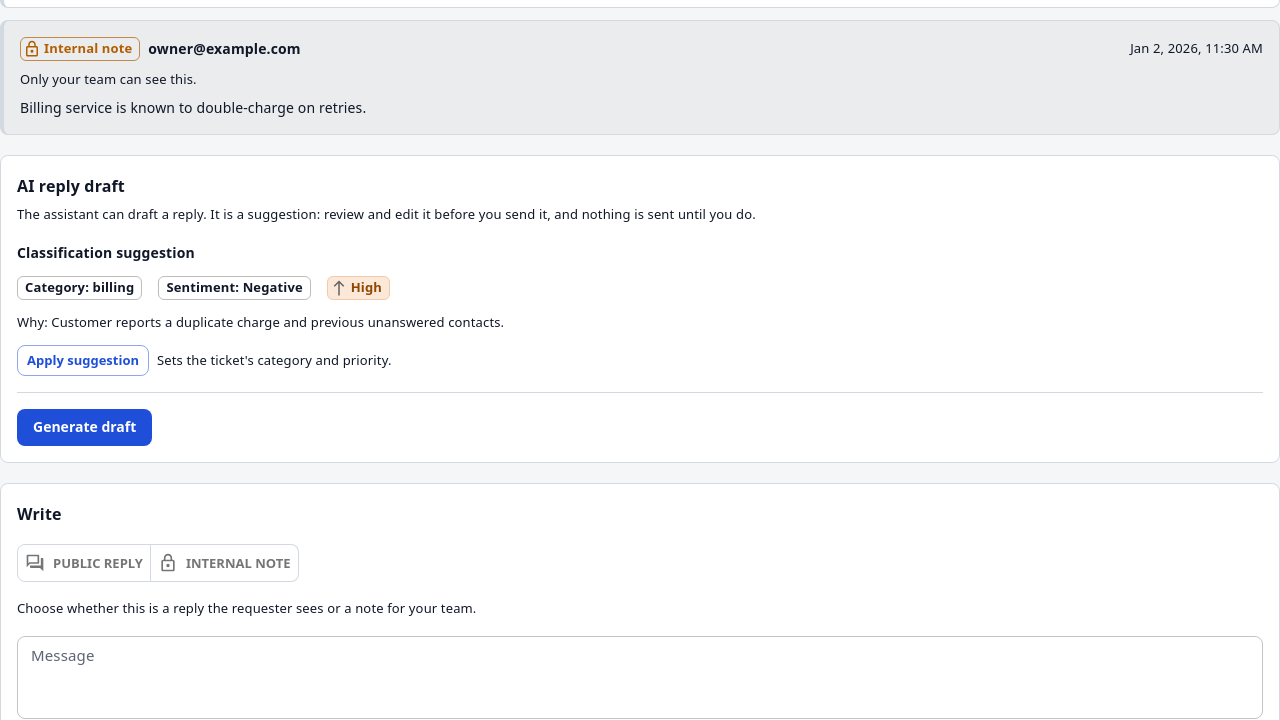
it: TicketDetailPage AI panel › shows the classification suggestion and applies it to the ticket
(page scrolled)
Expected: the text "Customer reports a duplicate charge" is shown, [17,313,504,331]
Expected: the text "Category: billing" is shown, [18,278,141,298]
Click the button "Apply suggestion": x=83, y=361 [17,346,149,376]
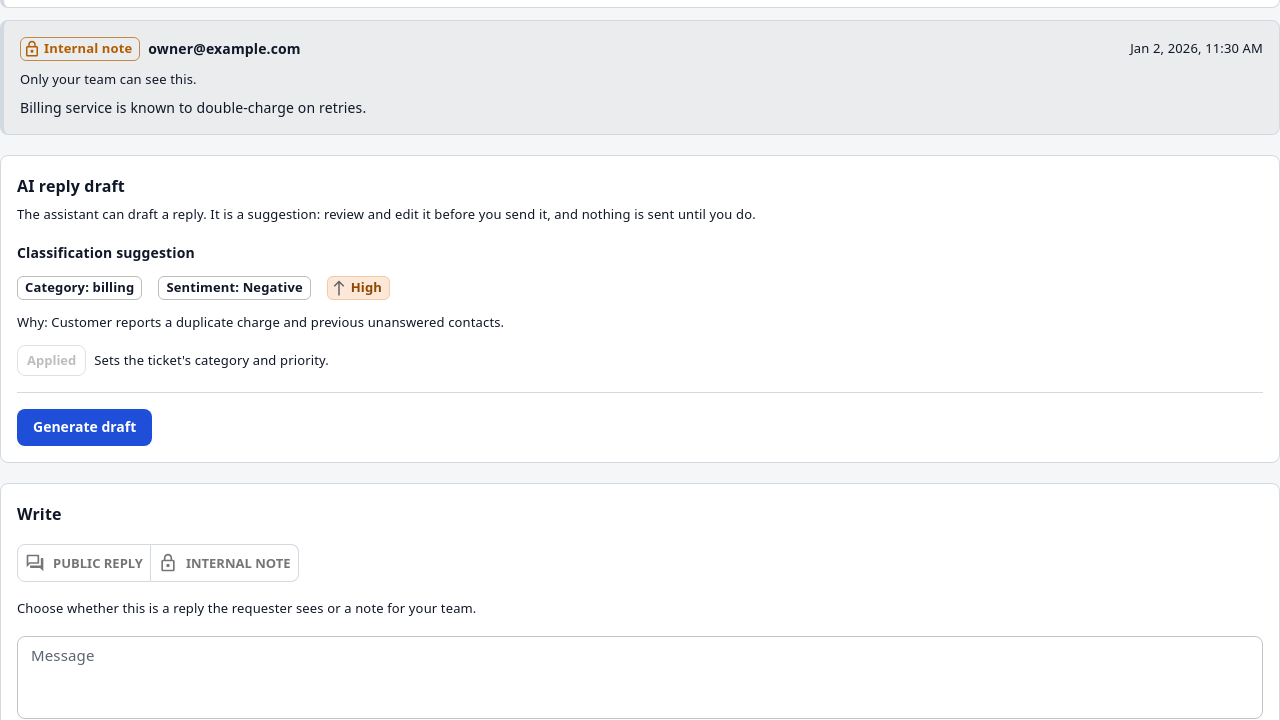
Now the button "Applied" is disabled, box [17,346,86,376]
